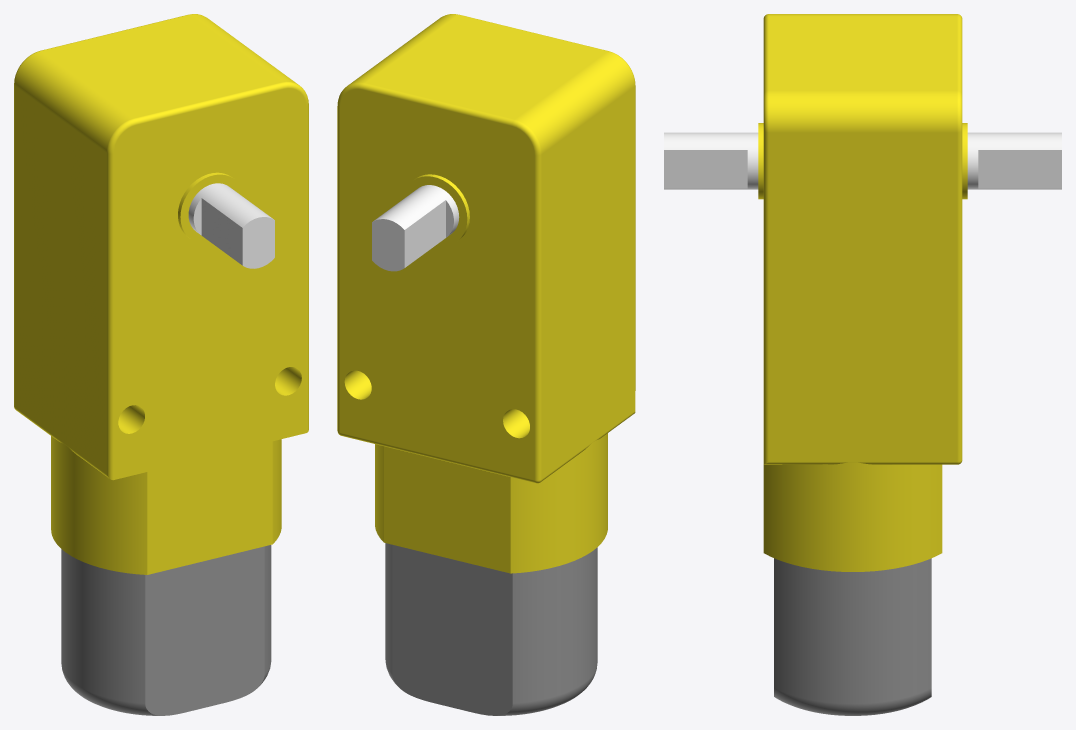
Rendered from motor_1.obj.
The picture shows the model from 3 angles, left to right: view 1: azimuth 30°, elevation 25°; view 2: azimuth 150°, elevation 25°; view 3: azimuth 270°, elevation 25°; orthographic projection. The views are drawn at different scales.
Visible parts, largest first — view 1: 본체1; view 2: 본체1; view 3: 본체1.
Part boxes in pixels (x1=…): 본체1: x1=14, y1=14, x2=308, y2=715; 본체1: x1=337, y1=14, x2=635, y2=715; 본체1: x1=664, y1=14, x2=1061, y2=715.
Bounding box in the file's own units: 0.0225 × 0.065 × 0.0376.
